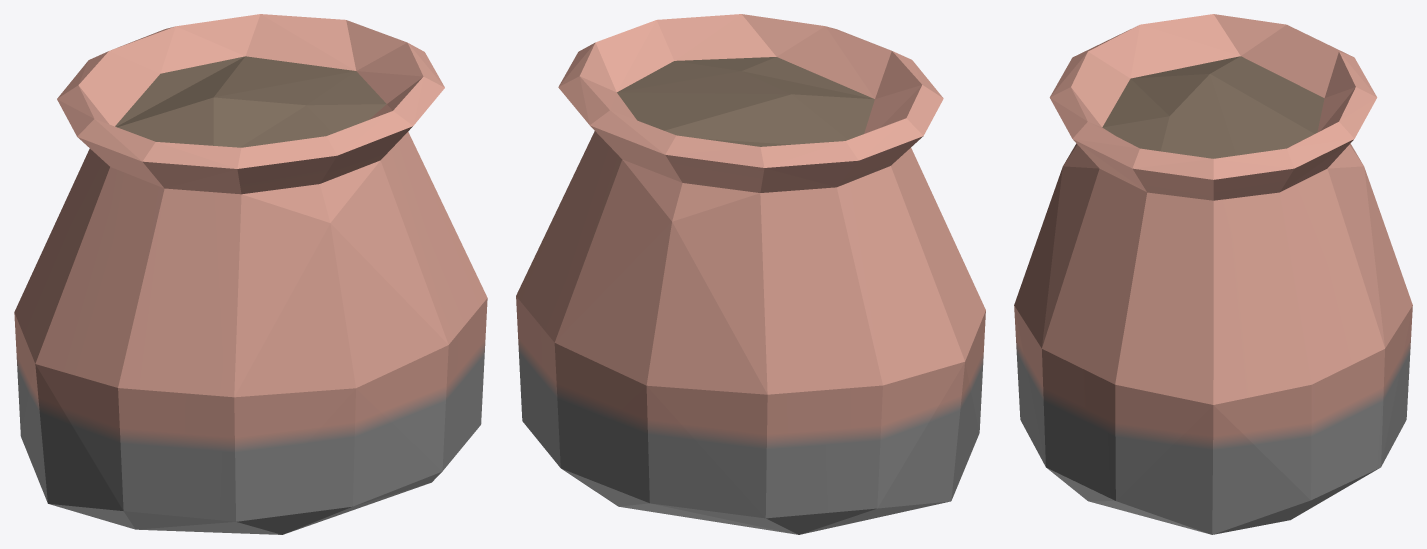
The model's file is Bag_05.fbx.
The picture shows the model from 3 angles, left to right: view 1: azimuth 30°, elevation 25°; view 2: azimuth 150°, elevation 25°; view 3: azimuth 270°, elevation 25°; orthographic projection. The views are drawn at different scales.
Parts seen in each view (by area): view 1: Bag_05; view 2: Bag_05; view 3: Bag_05.
Boxes of the visible parts, x1=… form: Bag_05: x1=14, y1=14, x2=487, y2=534; Bag_05: x1=516, y1=14, x2=985, y2=534; Bag_05: x1=1014, y1=14, x2=1412, y2=534.
Bounding box in the file's own units: 63.5 × 53.67 × 53.61.
